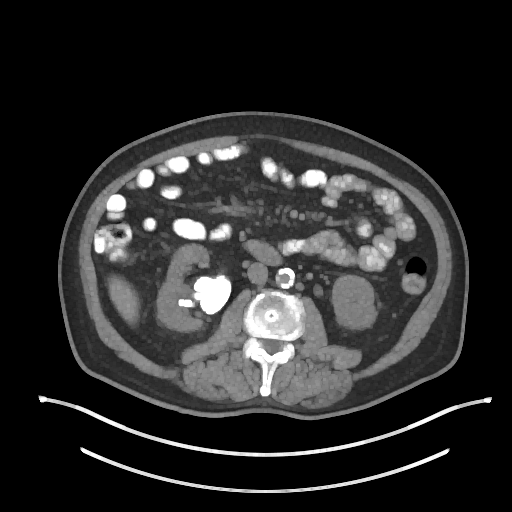Lesion: (174, 275, 237, 315)
